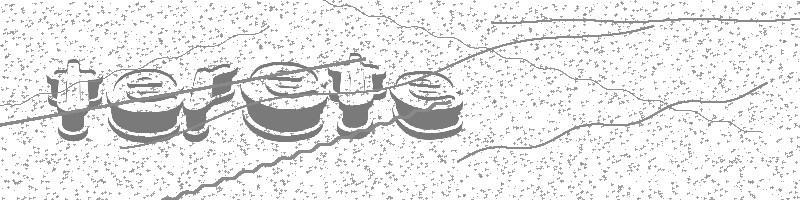e: (235, 58, 328, 145), (380, 65, 470, 143), (103, 66, 181, 144)
r: (176, 60, 238, 139)
t: (37, 55, 104, 142), (325, 50, 387, 138)
